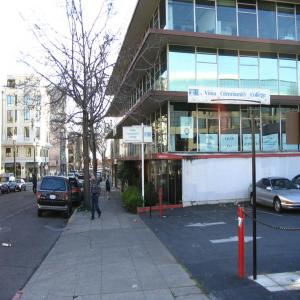Vehicle-registration-plate: (51, 196, 57, 201)
